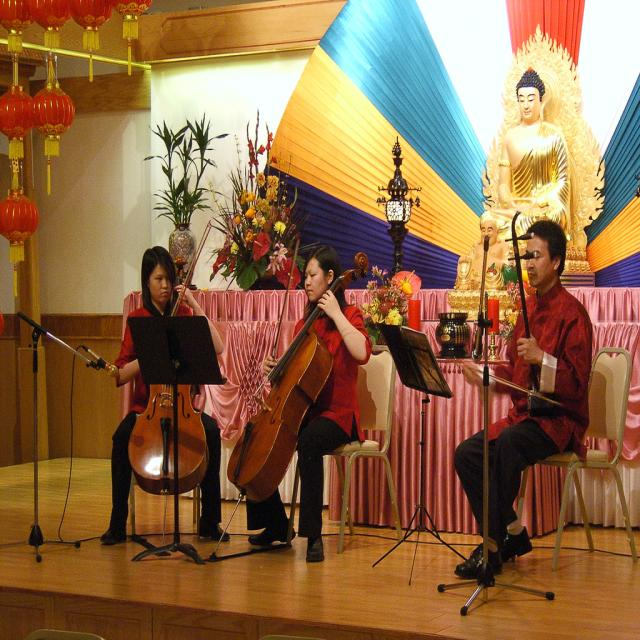cello: (228, 252, 372, 503), (124, 258, 210, 495)
